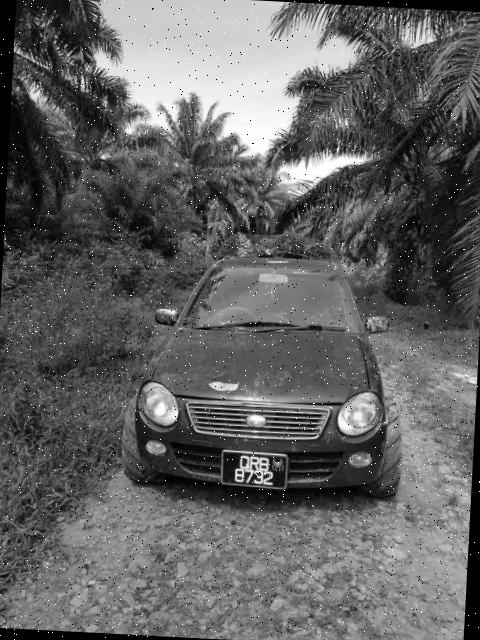License_Plate: (220, 451, 290, 492)
car: (112, 225, 418, 511)
